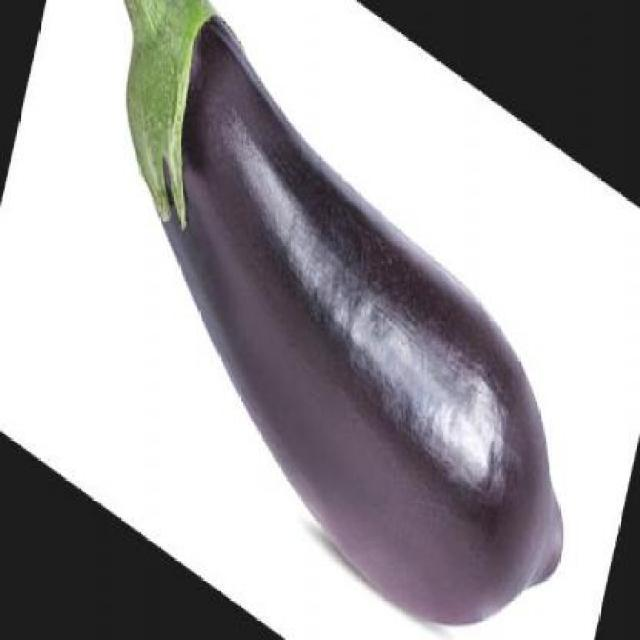eggplant: (116, 0, 568, 635)
